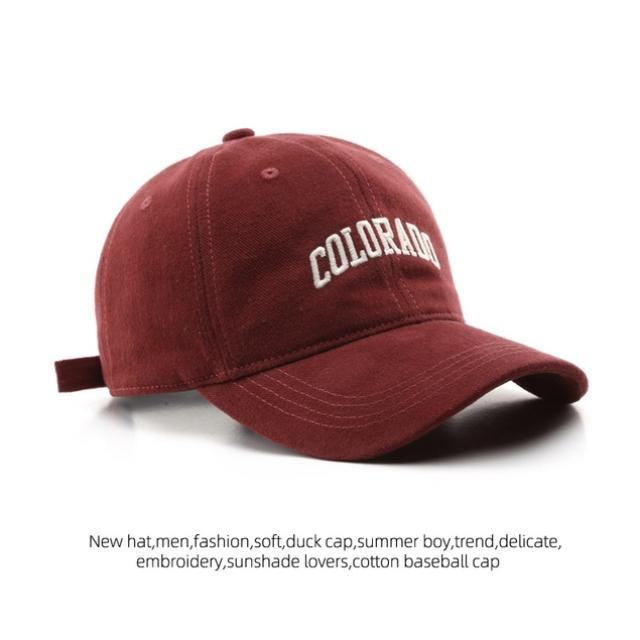Nonhelmet: (52, 123, 588, 463)
